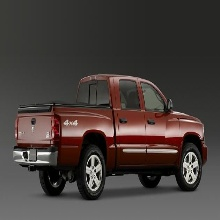no damage: (12, 74, 208, 201)
